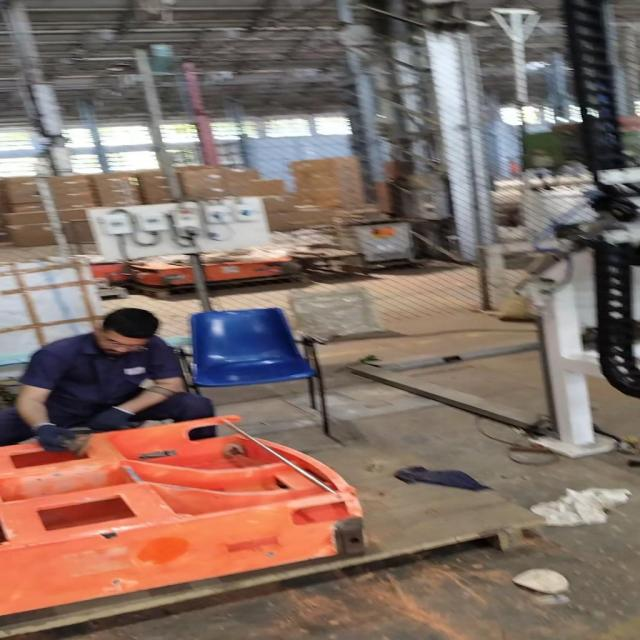Gloves-Detection: (36, 421, 81, 453), (87, 410, 133, 434)
